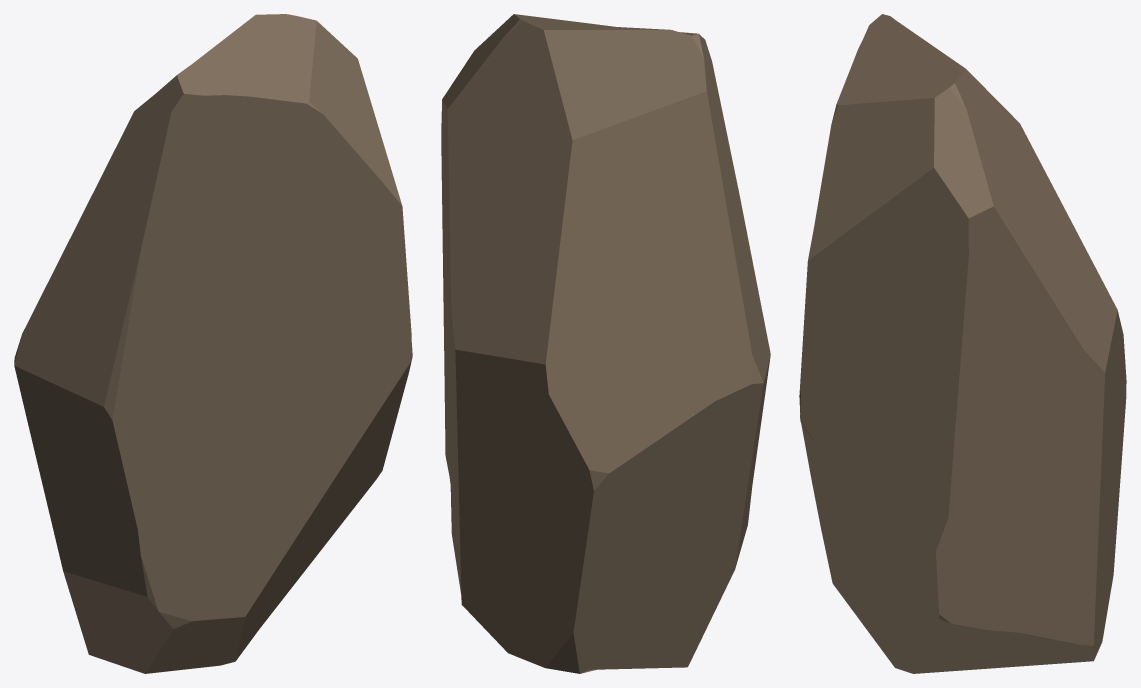
File: rock_3.fbx
3 renders of one model, left to right at view 1: azimuth 30°, elevation 25°; view 2: azimuth 150°, elevation 25°; view 3: azimuth 270°, elevation 25°, orthographic. The views are drawn at different scales.
Parts seen in each view (by area): view 1: rock_3; view 2: rock_3; view 3: rock_3.
Boxes of the visible parts, bbox=[...] form: rock_3: bbox=[14, 14, 412, 673]; rock_3: bbox=[441, 14, 770, 673]; rock_3: bbox=[799, 14, 1126, 673].
Size of the model in its own units: 2.19 by 3.72 by 1.74.
